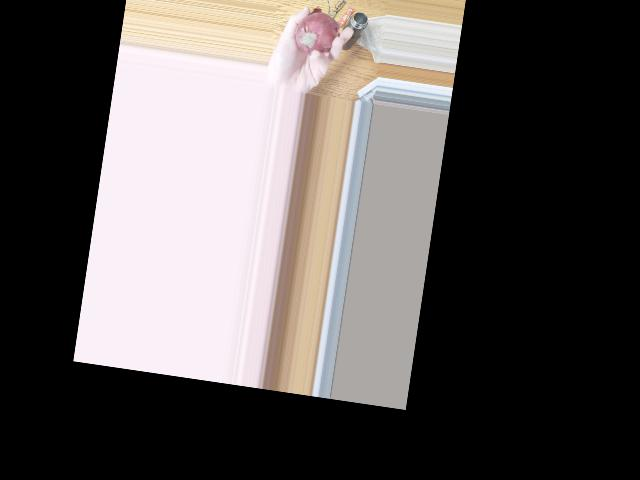onion: (293, 11, 333, 56)
